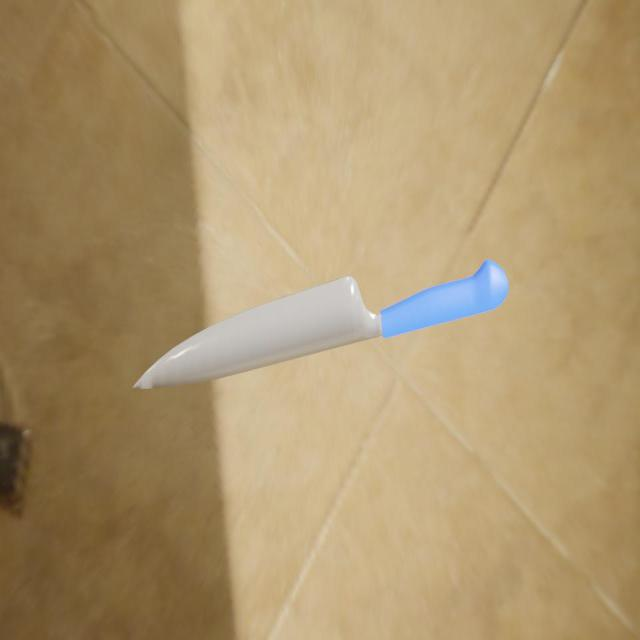knife: (377, 259, 509, 339)
